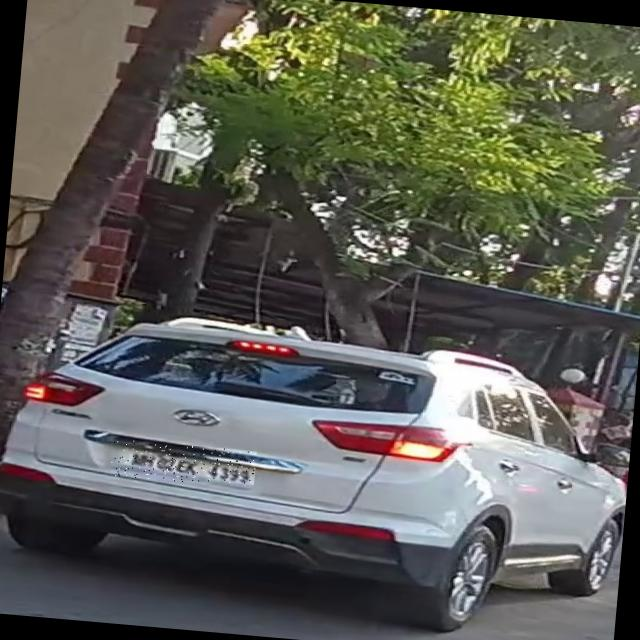Plate: (111, 440, 258, 489)
